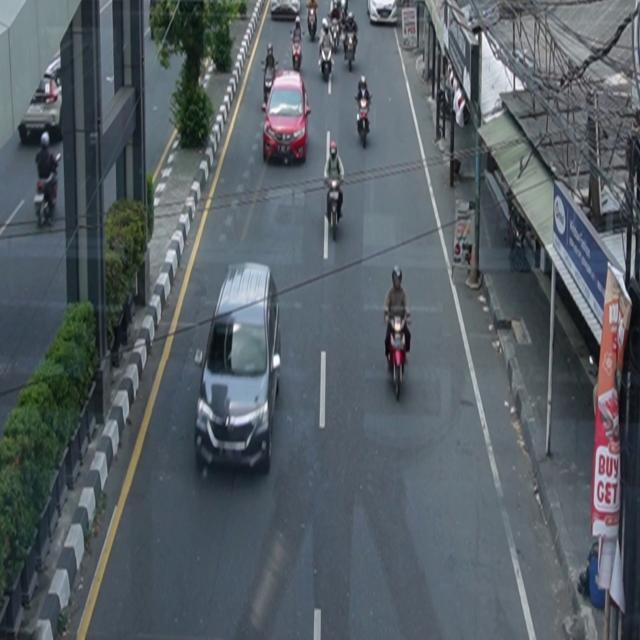car: (195, 262, 282, 473), (263, 70, 312, 166), (367, 1, 399, 26)
